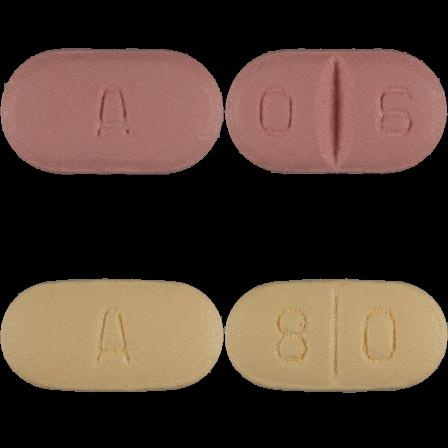13107-006: (0, 0, 224, 224)
